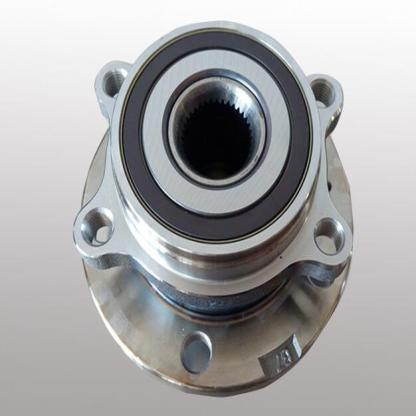FOD: (108, 17, 326, 264)
